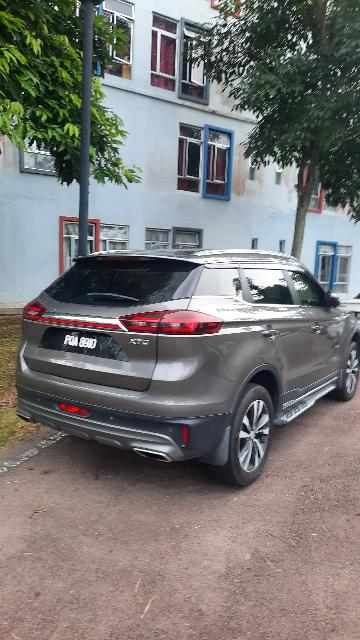License_Plate: (41, 320, 140, 366)
car: (11, 251, 360, 491)
